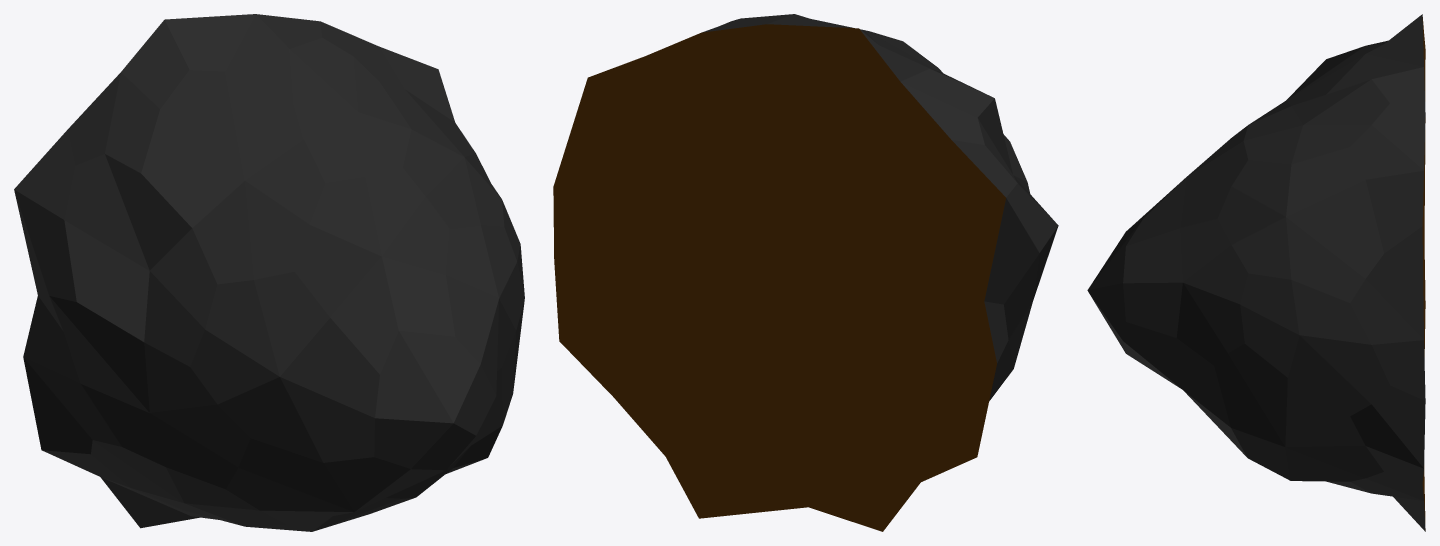
File: FloatingIsland01.fbx
The picture shows the model from 3 angles, left to right: view 1: azimuth 30°, elevation 25°; view 2: azimuth 150°, elevation 25°; view 3: azimuth 270°, elevation 25°; orthographic projection. The views are drawn at different scales.
Parts seen in each view (by area): view 1: FloatingIsland01; view 2: FloatingIsland01; view 3: FloatingIsland01.
Part boxes in pixels (x1,y1,x2,y2): FloatingIsland01: (14,14,524,531); FloatingIsland01: (553,14,1058,531); FloatingIsland01: (1087,14,1425,531).
Size of the model in its own units: 264822 by 294874 by 199987.
